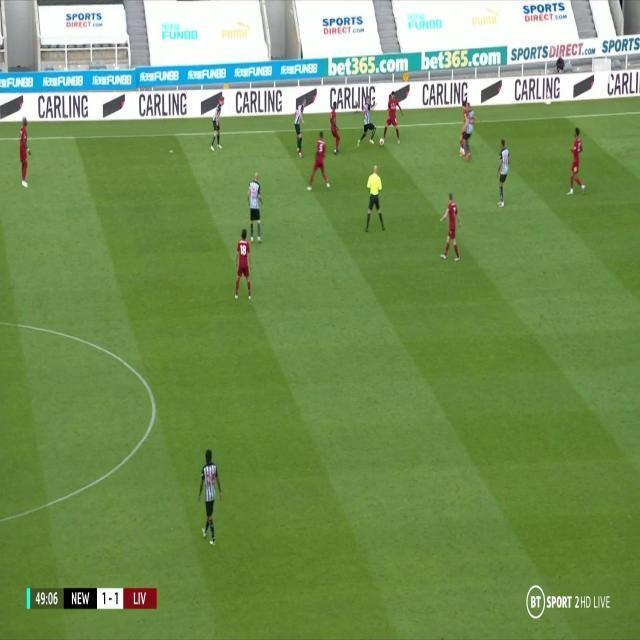ball: (379, 137, 385, 147)
player: (198, 448, 223, 548), (306, 130, 332, 195), (439, 193, 462, 264), (233, 227, 254, 304), (246, 169, 266, 247), (567, 125, 587, 201), (381, 88, 404, 148), (494, 136, 511, 210), (357, 90, 377, 150), (457, 100, 475, 164), (17, 114, 32, 190), (209, 93, 226, 154), (294, 99, 309, 159), (328, 101, 342, 155)
referee: (364, 162, 385, 237)
